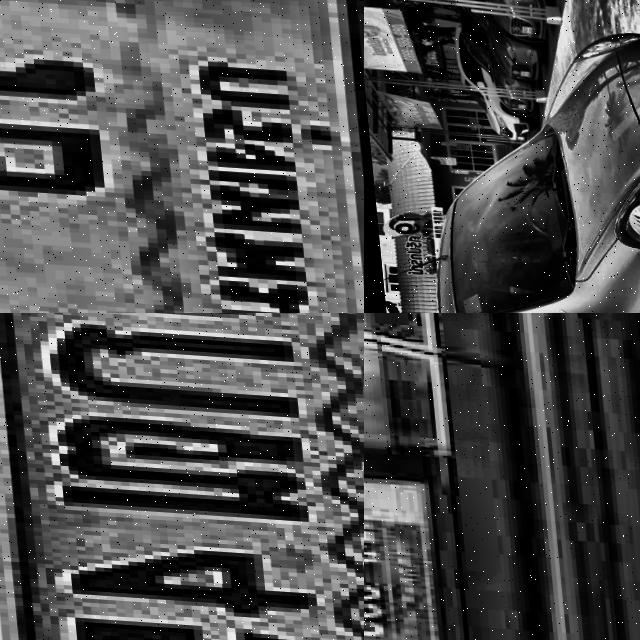license-plate: (0, 313, 364, 640), (0, 0, 364, 313), (364, 464, 443, 640), (516, 23, 532, 34), (514, 69, 527, 75), (512, 134, 522, 140), (513, 102, 522, 107)
